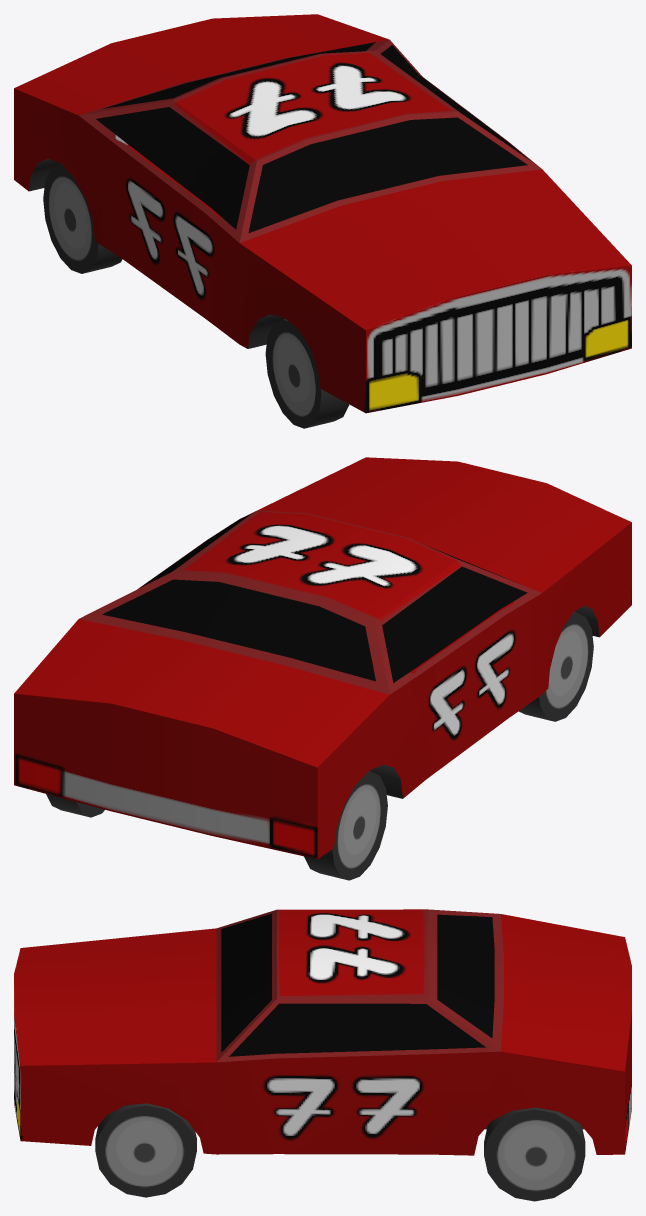
Rendered from Car.fbx.
The picture shows the model from 3 angles, top to bottom: view 1: azimuth 30°, elevation 25°; view 2: azimuth 150°, elevation 25°; view 3: azimuth 270°, elevation 25°; orthographic projection. The views are drawn at different scales.
Visible parts, largest first — view 1: Car 77; view 2: Car 77; view 3: Car 77.
Boxes of the visible parts, box(x1,y1,x2,y2) form: Car 77: box(14, 14, 631, 428); Car 77: box(14, 457, 631, 880); Car 77: box(14, 909, 631, 1201).
Size of the model in its own units: 225 by 147 by 427.
1 material, 1 textured.
